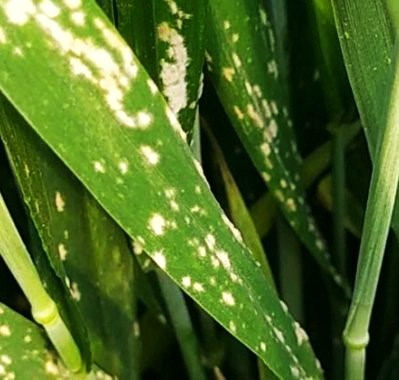Powdery Mildew: (84, 31, 327, 301)
